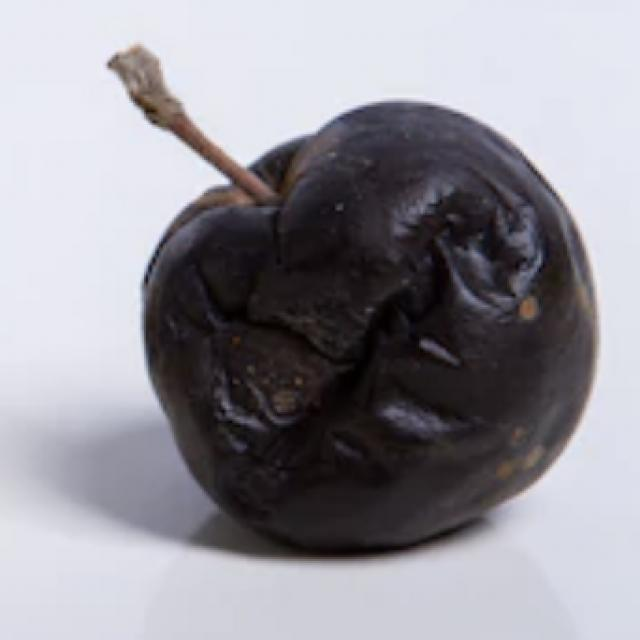Rotten: (137, 100, 613, 553)
